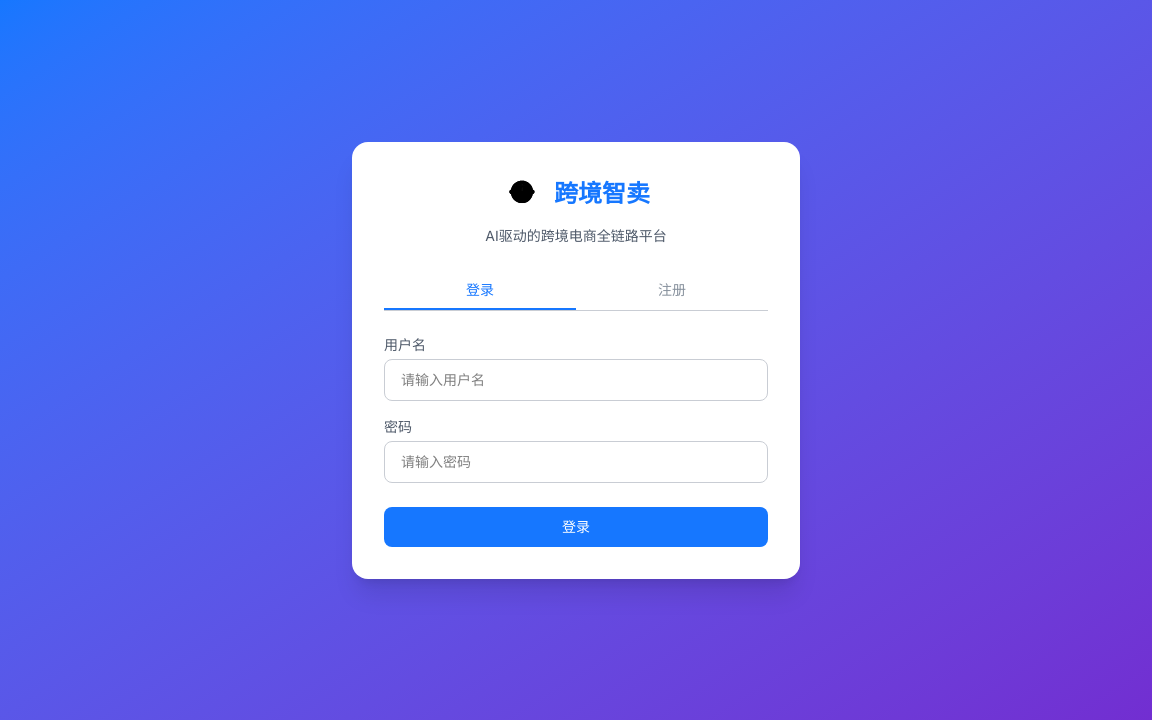
Scenario: LoginPage - Tabs › switching to register tab shows register form
The width and height of the screenshot is (1152, 720).
What coordinates should you click on to do the following:
click the button "注册"
I would click on:
 (672, 290)
Its box is [576, 270, 768, 310].
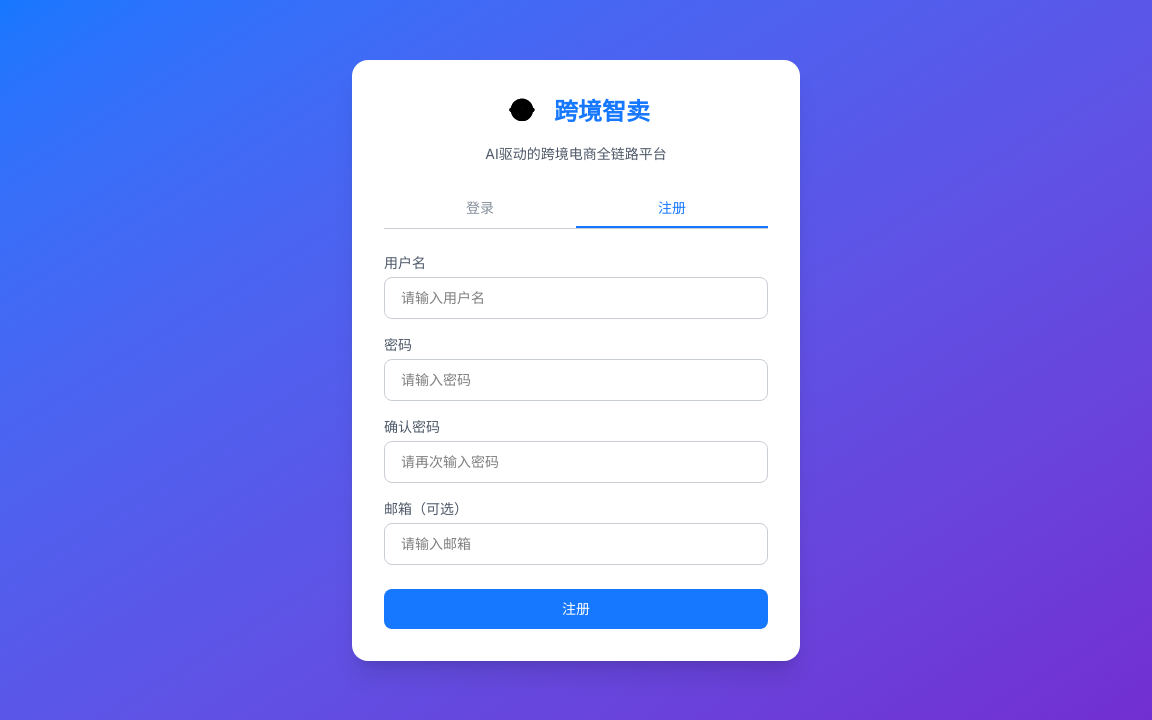
Check: the field with placeholder "请输入用户名" is shown, box [384, 276, 768, 318]
Check: the password field with placeholder "请再次输入密码" is shown, box [384, 440, 768, 482]
Check: the field with placeholder "请输入邮箱" is shown, box [384, 522, 768, 564]
